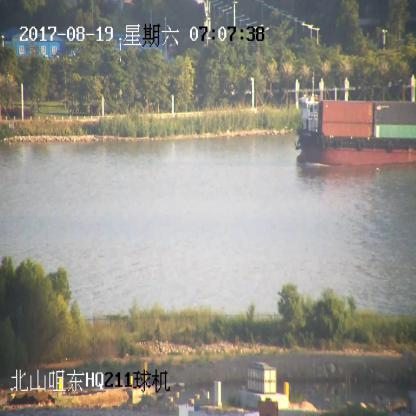Container Ship: (294, 75, 415, 169)
